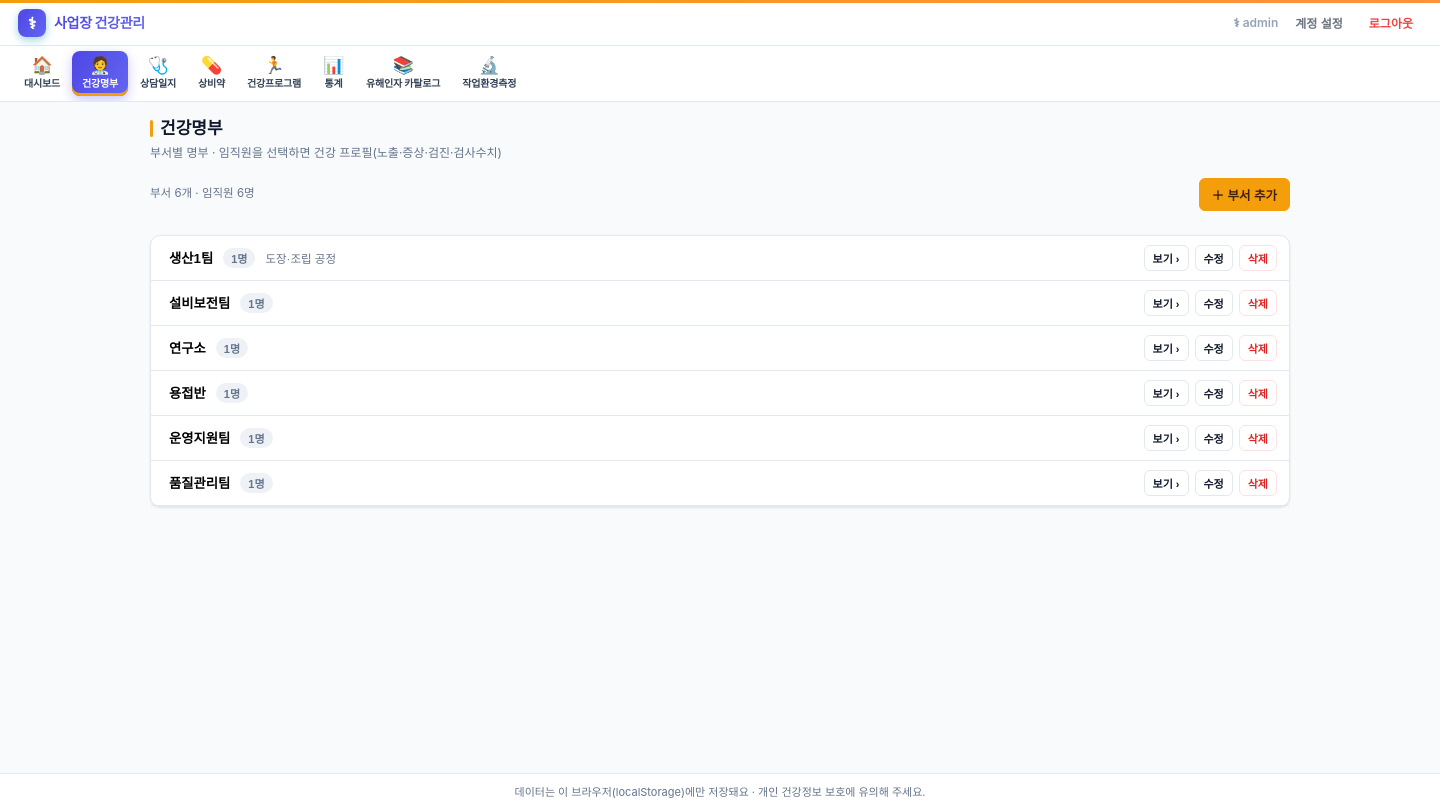
Test: App 스모크 › 임직원 명부에서 부서를 선택하면 소속 임직원이 보인다
// 1단계: 부서 목록에서 '생산1팀' 클릭
Click the text "생산1팀" at (191, 258), box x1=169 y1=248 x2=213 y2=267
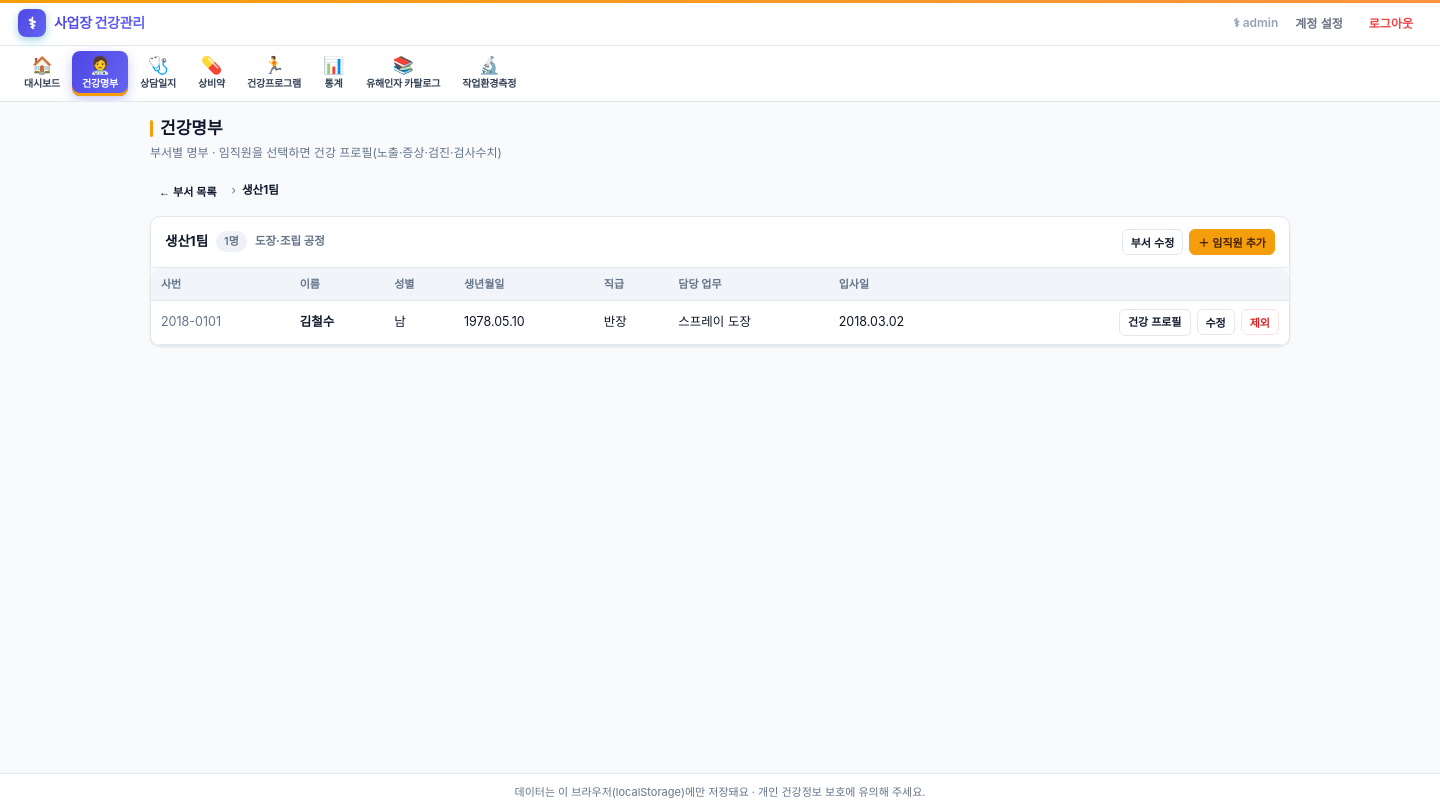
Check: the text "김철수" is shown, box x1=300 y1=314 x2=334 y2=329
